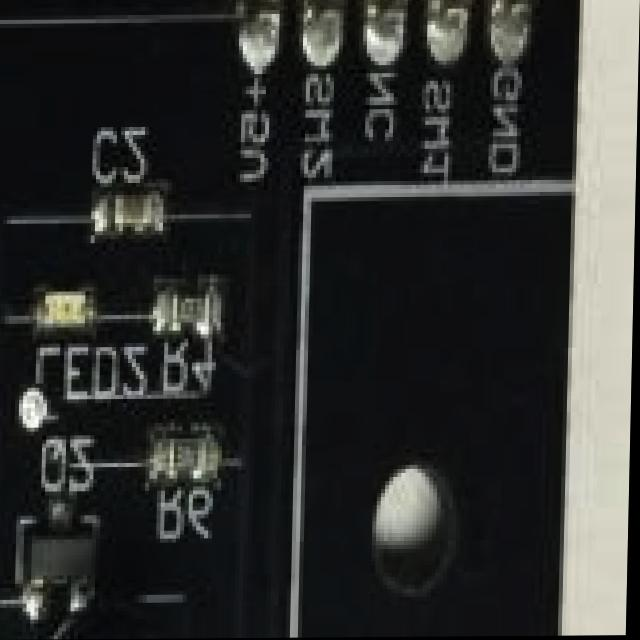LED: (42, 273, 95, 364), (41, 619, 197, 640)
capacitor: (100, 173, 161, 235)
connector: (238, 0, 588, 95)
resistor: (151, 417, 217, 507), (150, 275, 207, 335)
transistor: (17, 467, 108, 612)
